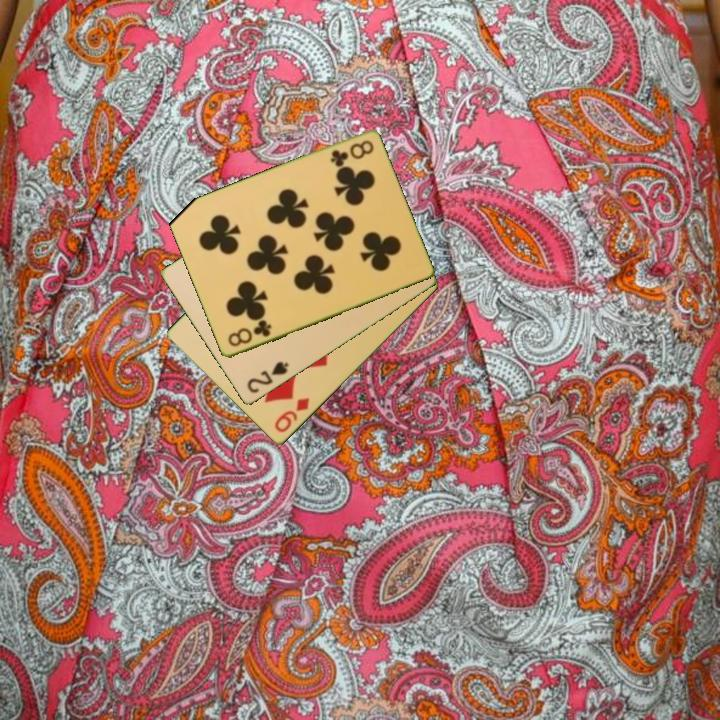2s: (243, 358, 292, 397)
8c: (224, 317, 274, 350), (327, 137, 377, 170)
9d: (271, 394, 312, 436)
